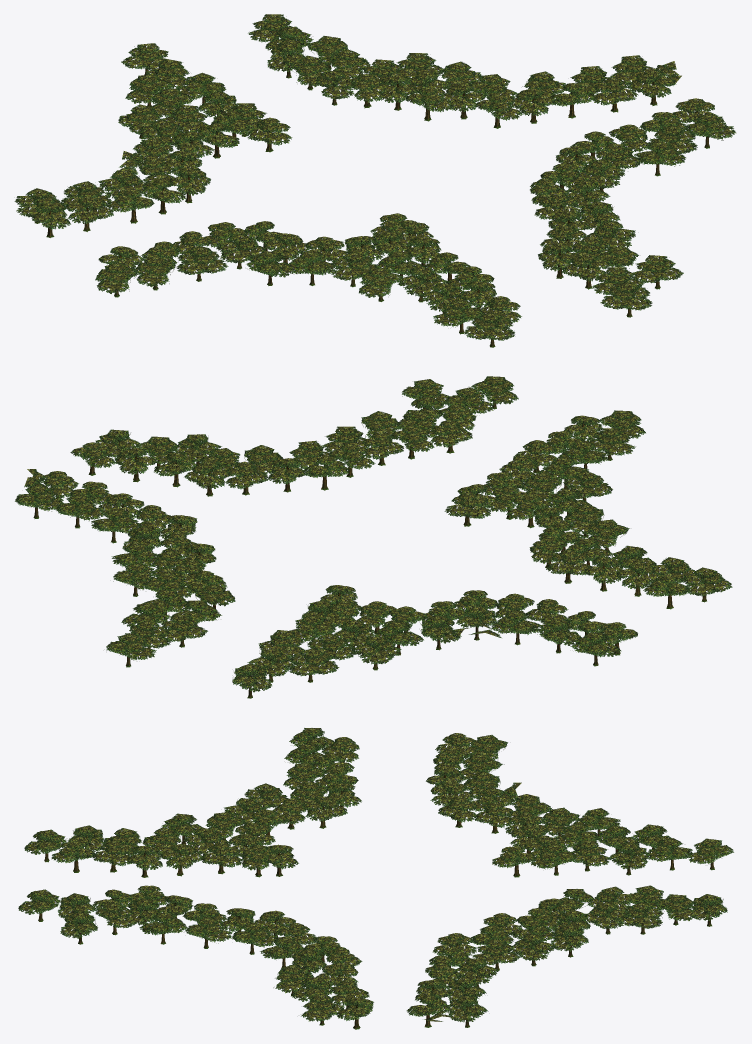
Rendered from trees.gltf.
3 renders of one model, top to bottom at view 1: azimuth 30°, elevation 25°; view 2: azimuth 150°, elevation 25°; view 3: azimuth 270°, elevation 25°, orthographic. The views are drawn at different scales.
Visible parts, largest first — view 1: tree-003, tree-095, tree-065, tree-045, tree-029, tree-077, tree-091, tree-098, tree-103, tree-069, tree-099, tree-087 (+86 smaller); view 2: tree-072, tree-103, tree-002, tree-079, tree-018, tree-069, tree-053, tree-041, tree-092, tree-075, tree-085, tree-045 (+86 smaller); view 3: tree-035, tree-019, tree-037, tree-084, tree-016, tree-054, tree-002, tree-056, tree-004, tree-026, tree-057, tree-062 (+76 smaller).
Part boxes in pixels (left/top/right/bottom): tree-003: left=627, top=61, right=681, bottom=105; tree-095: left=176, top=246, right=228, bottom=281; tree-065: left=463, top=312, right=514, bottom=347; tree-045: left=600, top=282, right=652, bottom=317; tree-029: left=632, top=255, right=683, bottom=289; tree-077: left=331, top=251, right=378, bottom=287; tree-091: left=216, top=234, right=262, bottom=269; tree-098: left=66, top=196, right=113, bottom=231; tree-103: left=95, top=262, right=137, bottom=297; tree-069: left=433, top=299, right=484, bottom=334; tree-099: left=135, top=255, right=175, bottom=290; tree-087: left=119, top=151, right=176, bottom=184; tree-072: left=289, top=648, right=339, bottom=682; tree-103: left=682, top=567, right=732, bottom=602; tree-002: left=15, top=478, right=63, bottom=518; tree-079: left=351, top=636, right=401, bottom=670; tree-018: left=225, top=461, right=272, bottom=495; tree-069: left=589, top=428, right=635, bottom=460; tree-053: left=444, top=493, right=491, bottom=526; tree-041: left=106, top=633, right=156, bottom=667; tree-092: left=485, top=611, right=540, bottom=645; tree-075: left=563, top=471, right=612, bottom=502; tree-085: left=420, top=615, right=470, bottom=650; tree-045: left=471, top=376, right=518, bottom=409; tree-035: left=619, top=902, right=663, bottom=934; tree-019: left=511, top=934, right=555, bottom=966; tree-037: left=586, top=902, right=628, bottom=934; tree-084: left=302, top=796, right=347, bottom=828; tree-016: left=472, top=939, right=520, bottom=970; tree-054: left=160, top=844, right=202, bottom=876; tree-002: left=443, top=995, right=488, bottom=1027; tree-056: left=608, top=843, right=648, bottom=875; tree-004: left=301, top=994, right=344, bottom=1025; tree-026: left=185, top=917, right=232, bottom=948; tree-057: left=201, top=842, right=243, bottom=874; tree-062: left=687, top=838, right=733, bottom=870.
Size of the model in its own units: 127 by 6.22 by 132.
Materials: 2 (2 with a texture image).
